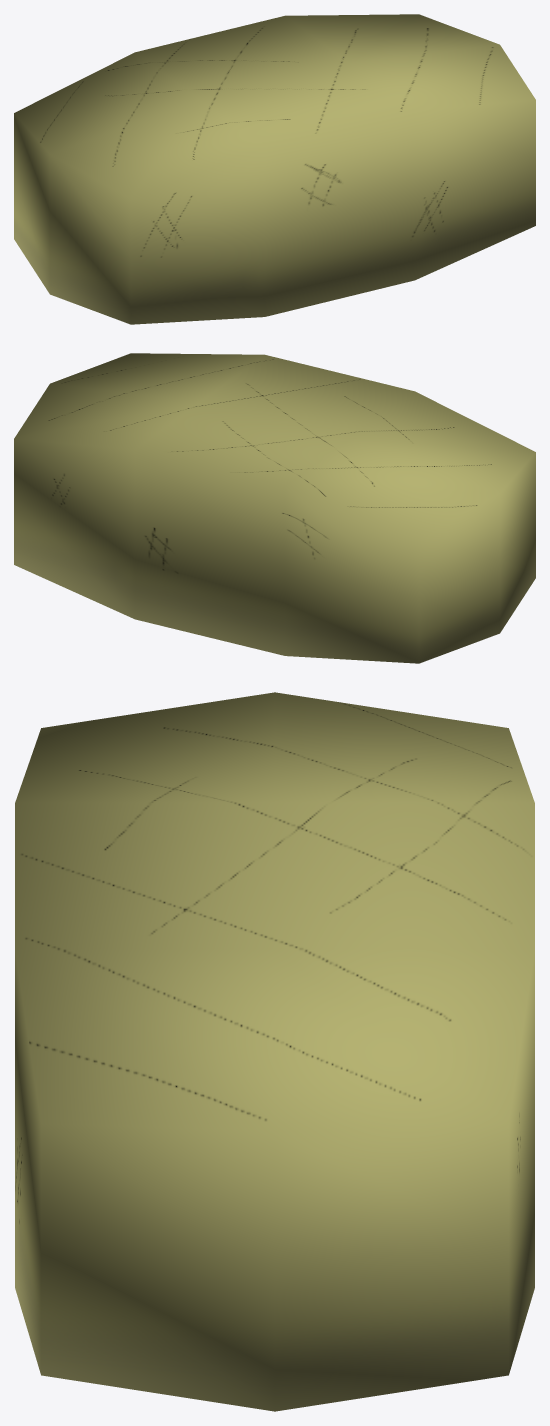
The model's file is Sandbags Single.glb.
The picture shows the model from 3 angles, top to bottom: view 1: azimuth 30°, elevation 25°; view 2: azimuth 150°, elevation 25°; view 3: azimuth 270°, elevation 25°; orthographic projection. The views are drawn at different scales.
Visible parts, largest first — view 1: sandbag; view 2: sandbag; view 3: sandbag.
Boxes of the visible parts, x1=… form: sandbag: x1=14, y1=14, x2=535, y2=324; sandbag: x1=14, y1=353, x2=535, y2=663; sandbag: x1=15, y1=692, x2=534, y2=1411.
Size of the model in its own units: 1.12 by 0.4031 by 0.5599.
1 material, 1 textured.
